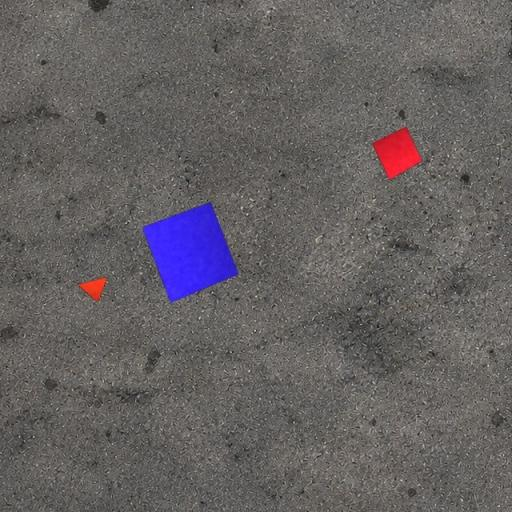BLUE_SQUARE: (142, 202, 239, 304)
RED_SQUARE: (372, 126, 422, 181)
